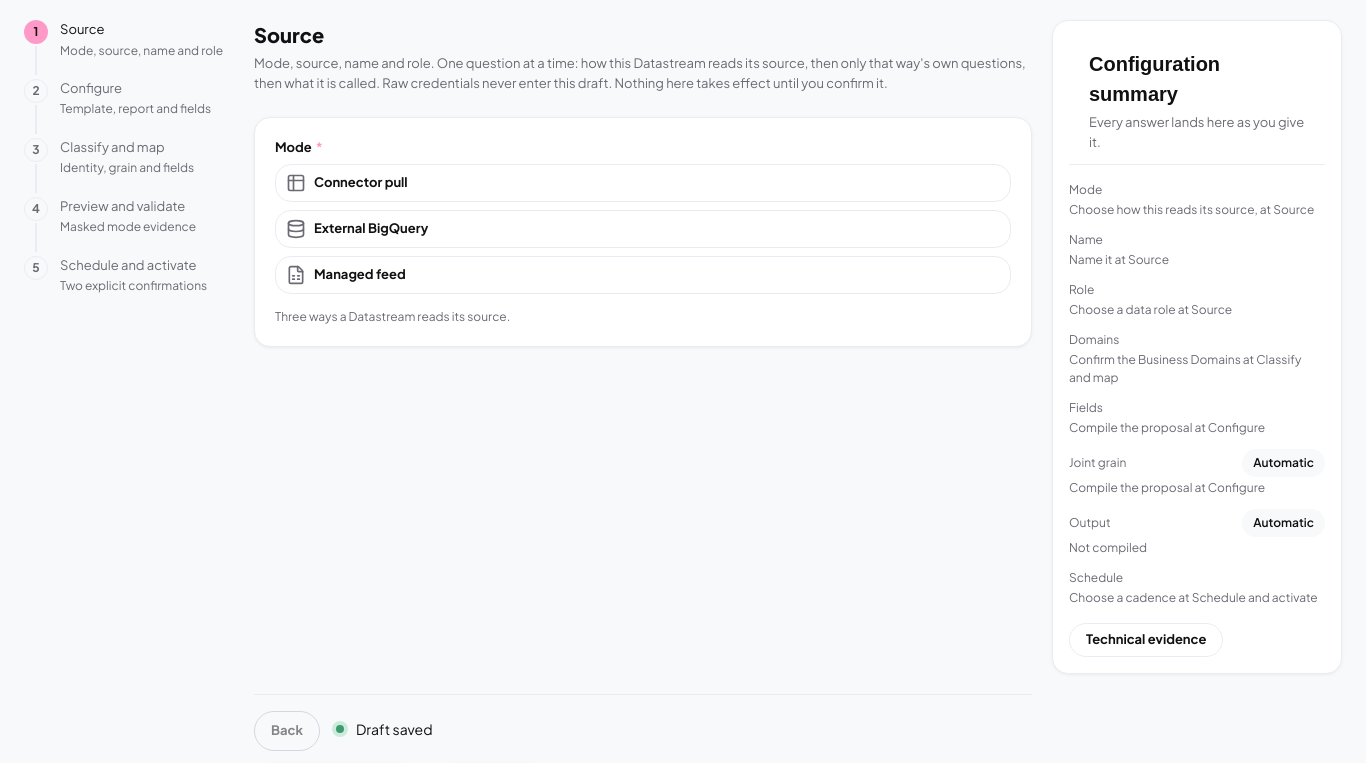
it: asks the name, the role and the category at the end of the Source step
Click the radio button labelled "Connector pull" at [361, 182], box 275,164 -> 1011,202
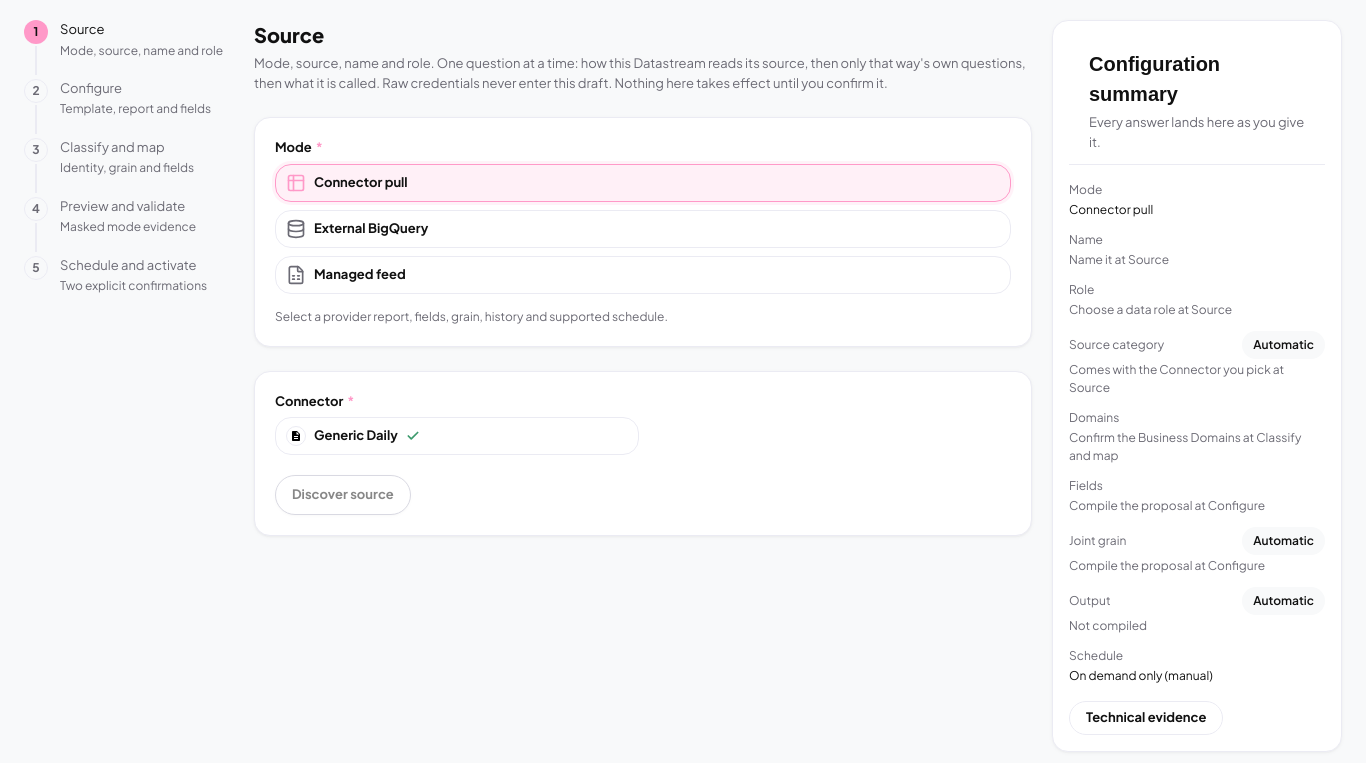
Click the radio button labelled "Generic Daily" at [356, 435], box 275,417 -> 639,455
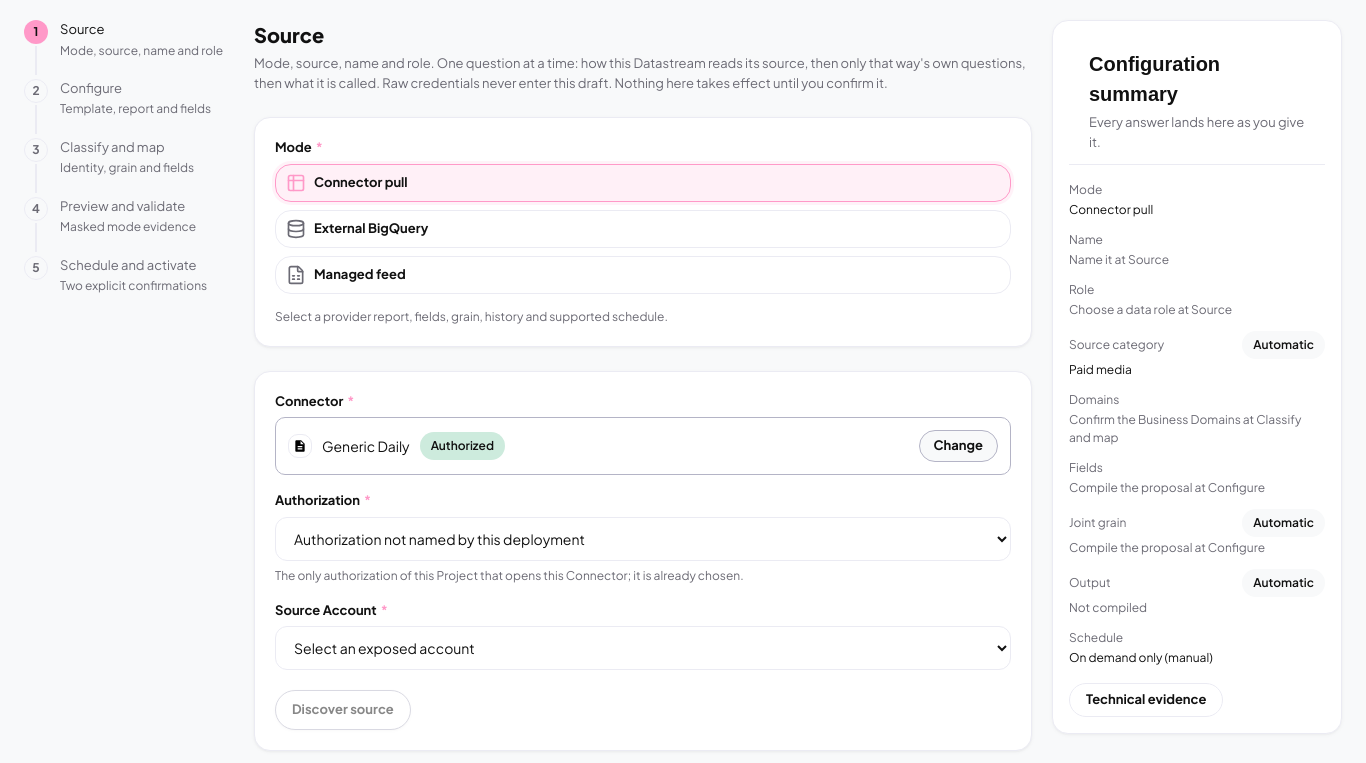
Select "Acme account" in the dropdown labelled "Source Account*" at [643, 648], box 275,626 -> 1011,670
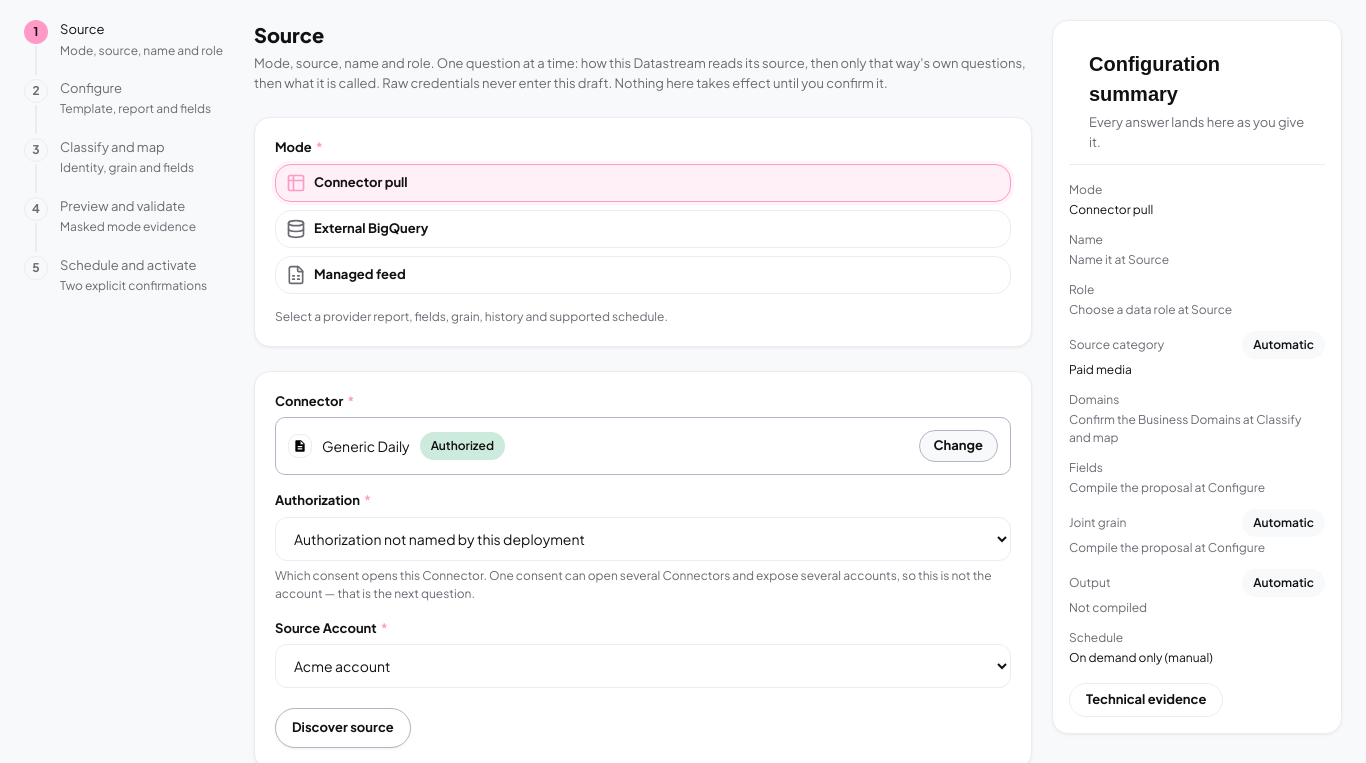
Click the button "Discover source" at [343, 728], box 275,708 -> 411,748
(page scrolled)
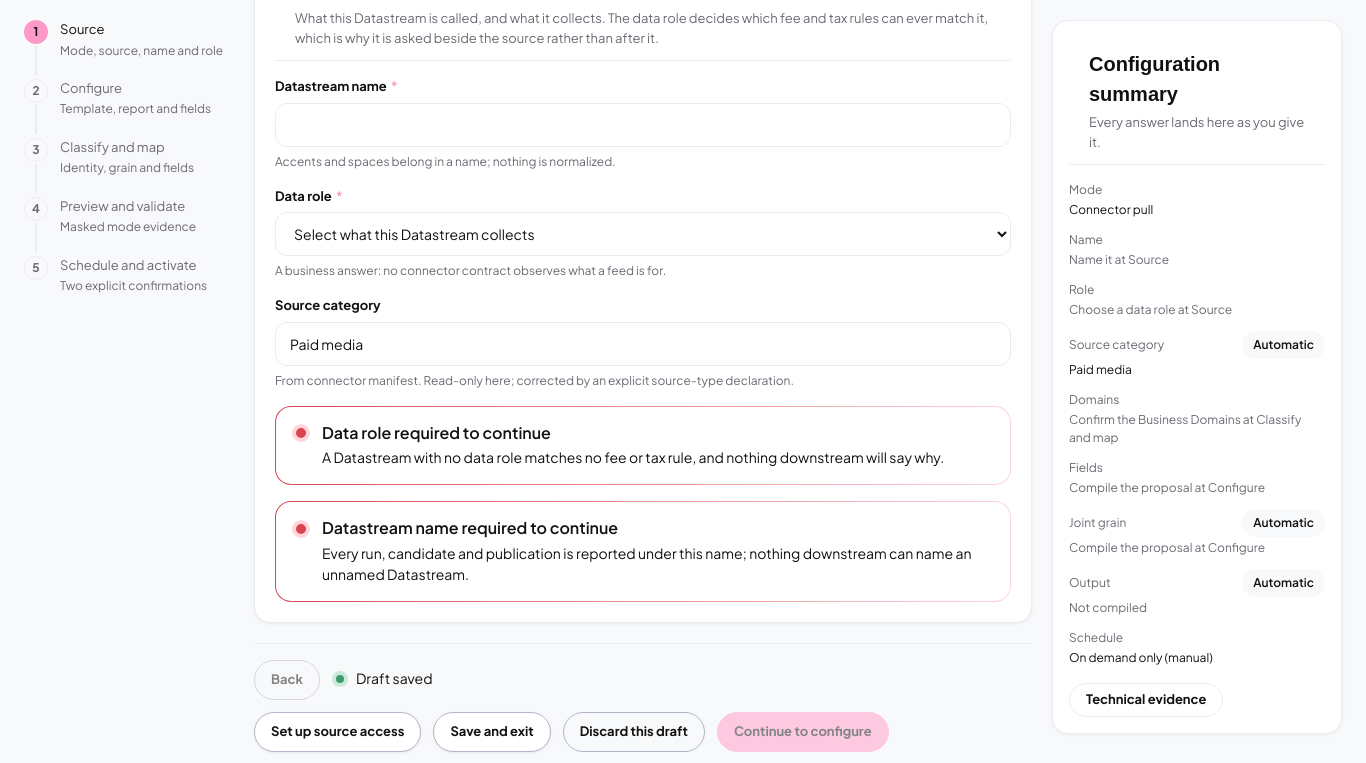
expect the dropdown labelled "Data role*" is shown: met, box 275,212 -> 1011,256
expect the field labelled "Source category" holds "Paid media": met, box 275,322 -> 1011,366
expect the text "corrected by an explicit source-type declaration" is shown: met, box 275,372 -> 794,388
